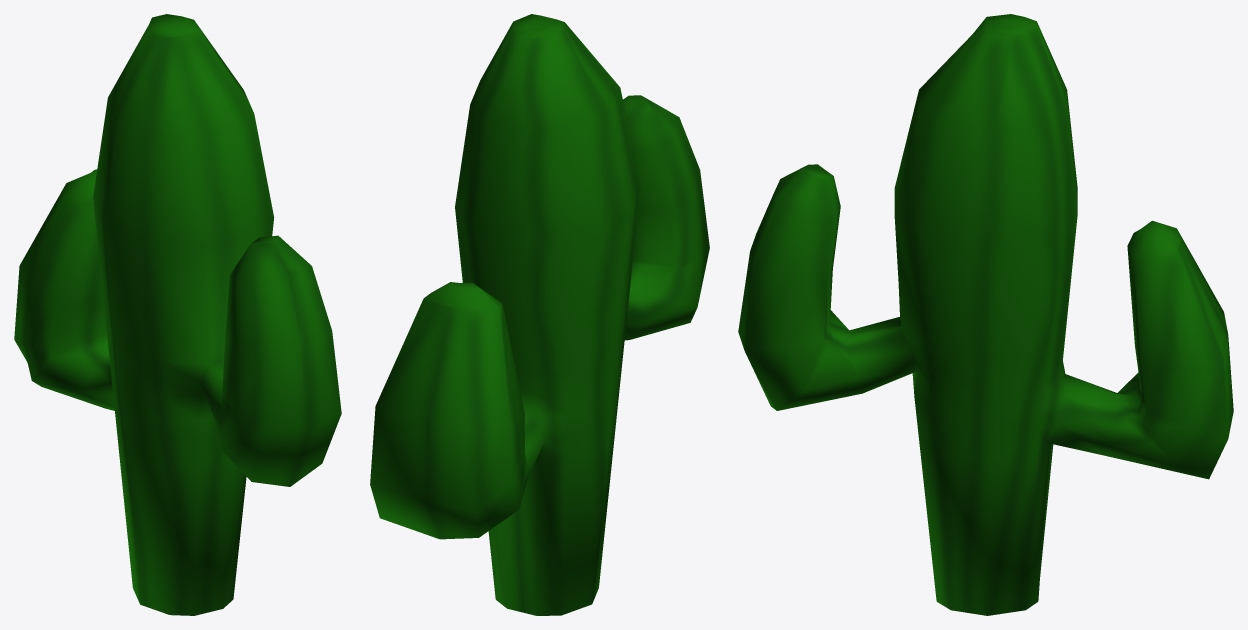
File: Cactus.glb
3 renders of one model, left to right at view 1: azimuth 30°, elevation 25°; view 2: azimuth 150°, elevation 25°; view 3: azimuth 270°, elevation 25°, orthographic. The views are drawn at different scales.
Visible parts, largest first — view 1: Cube; view 2: Cube; view 3: Cube.
Part boxes in pixels (x1,y1,x2,y2): Cube: (14, 14, 341, 615); Cube: (370, 14, 709, 615); Cube: (738, 14, 1233, 615).
Bounding box in the file's own units: 1.04 × 3.58 × 2.82.
Materials: 1 (1 with a texture image).
